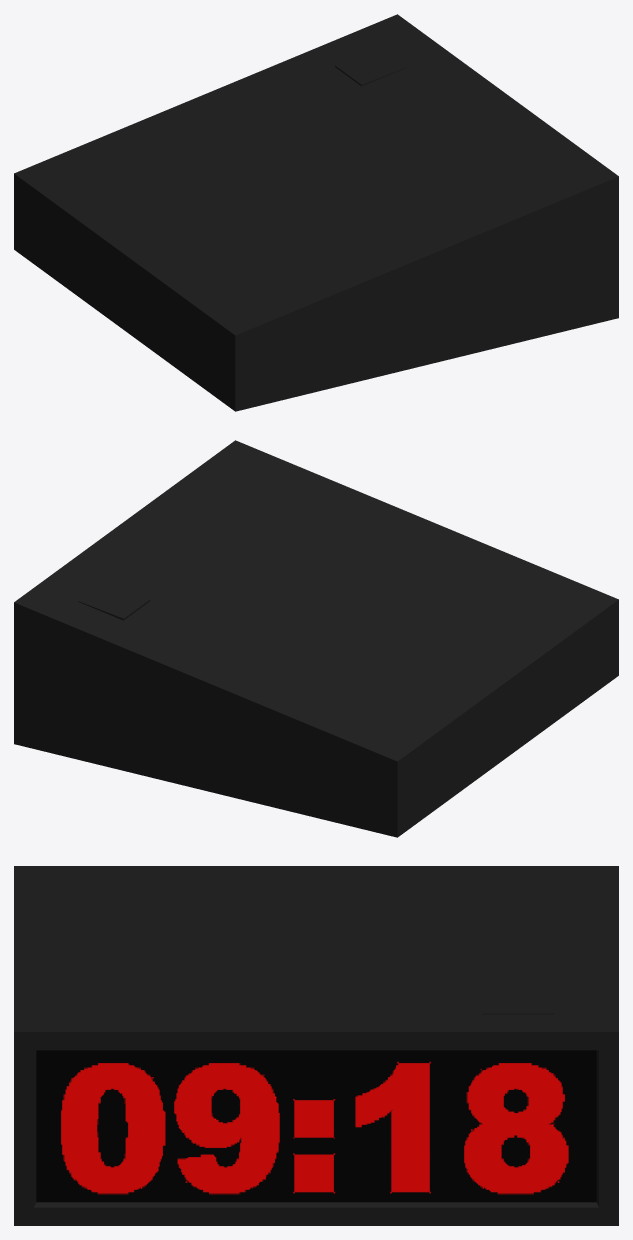
The model's file is TableClock01.fbx.
The picture shows the model from 3 angles, top to bottom: view 1: azimuth 30°, elevation 25°; view 2: azimuth 150°, elevation 25°; view 3: azimuth 270°, elevation 25°; orthographic projection. The views are drawn at different scales.
Parts seen in each view (by area): view 1: Cube; view 2: Cube; view 3: Cube.
Boxes of the visible parts, <box> form: Cube: <box>14,14,618,411</box>; Cube: <box>14,440,618,837</box>; Cube: <box>14,866,618,1225</box>.
Bounding box in the file's own units: 200 × 70.64 × 200.
